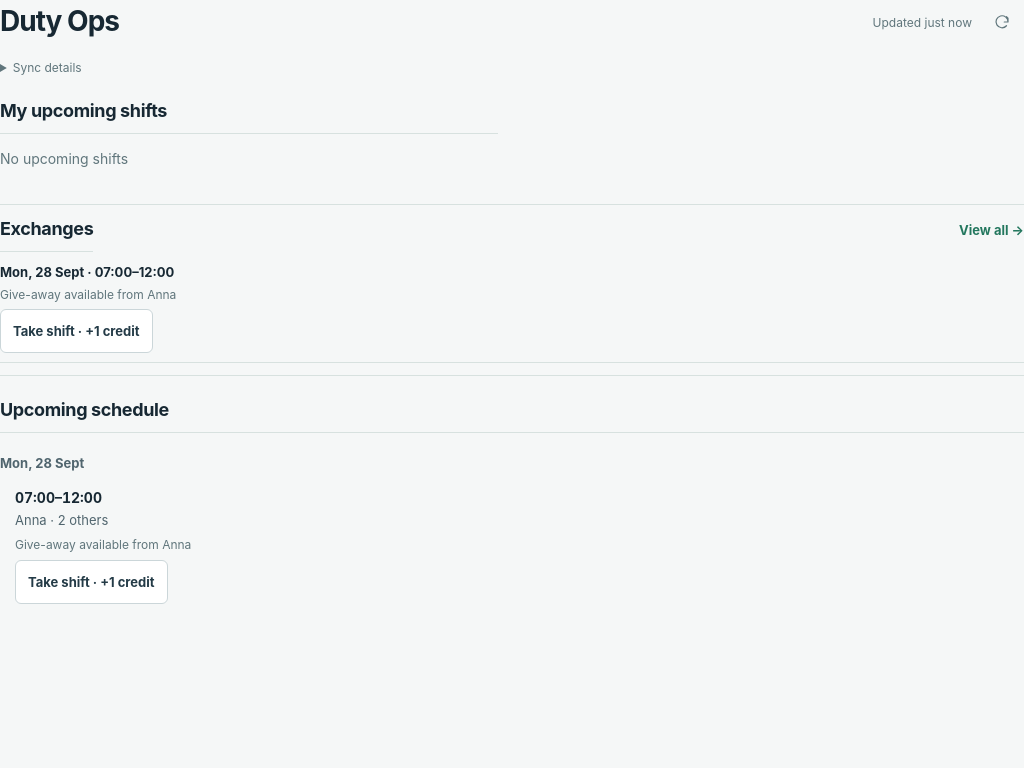
Test: effective Duty Ops presentation › refreshes effective My shifts immediately after a successful give-away claim
This screenshot has width=1024, height=768.
Expected: the element showing "My upcoming shifts No upcoming shifts" is shown, [0, 99, 498, 184]
Click the button "Take shift · +1 credit" below "Mon, 28 Sept · 07:00–12:00" at (76, 331), box [0, 309, 152, 353]
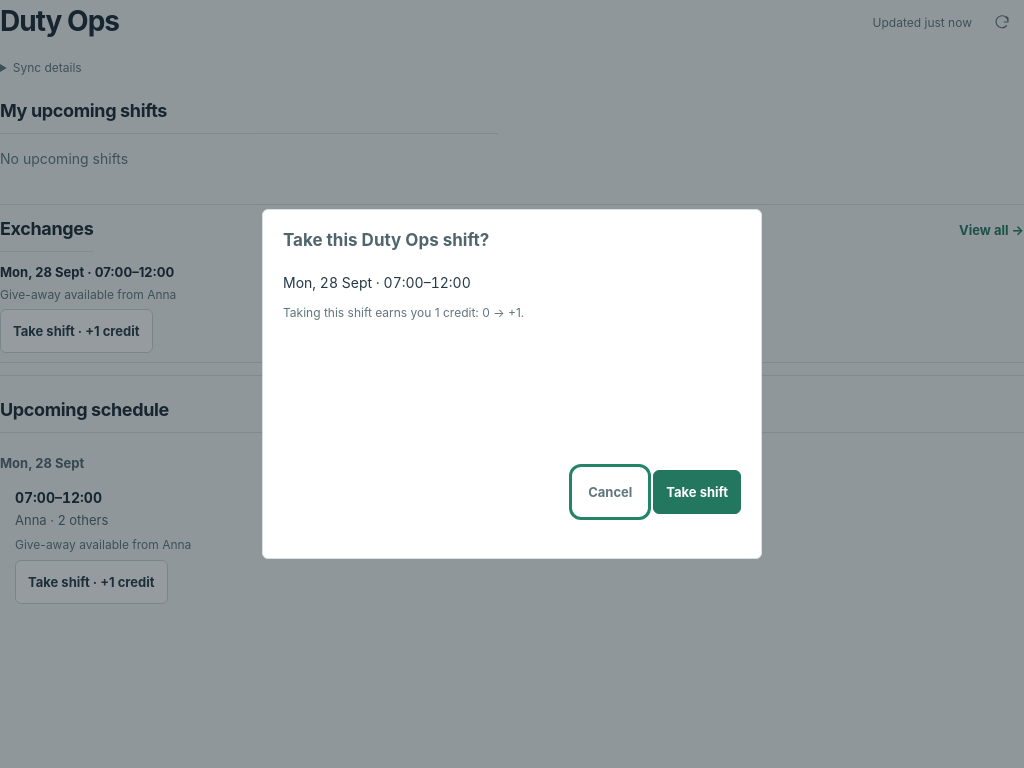
Expected: the button "Take shift" is shown
Expected: the button "Take shift" is enabled
Click the button "Take shift" at (697, 492), box [653, 470, 741, 514]
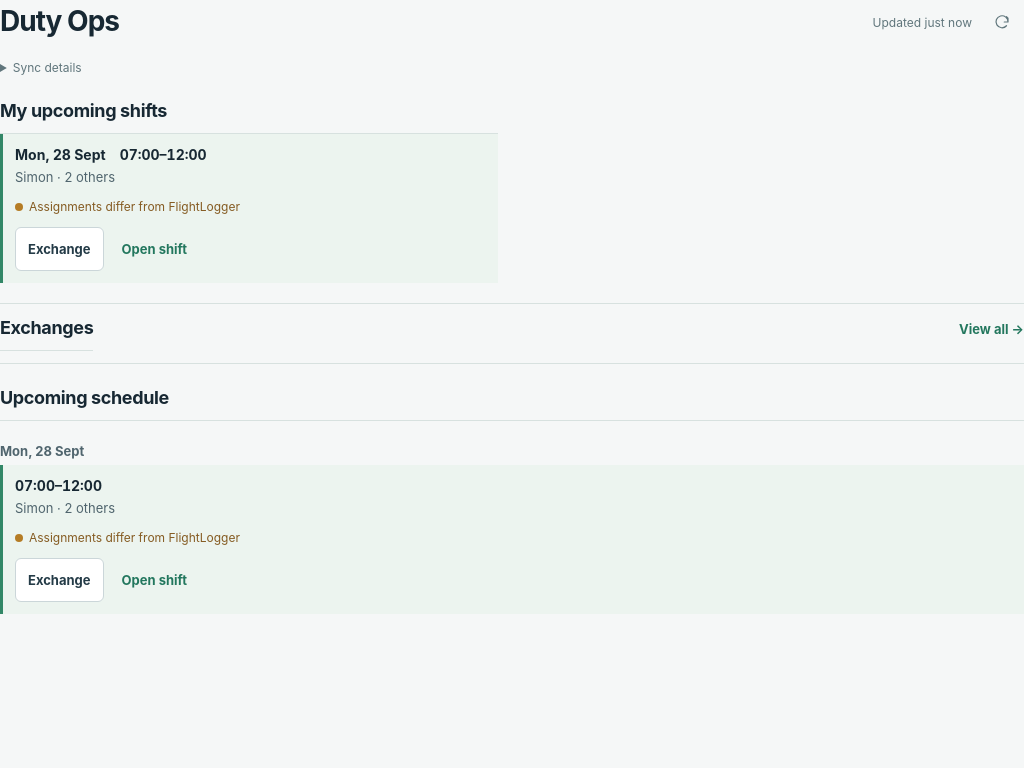
Expected: the element that starts with "My upcoming shifts" shows "Simon · 2 others", [15, 169, 115, 185]
Expected: the link to "/duty-ops/shifts/received" is shown, [122, 241, 187, 257]
